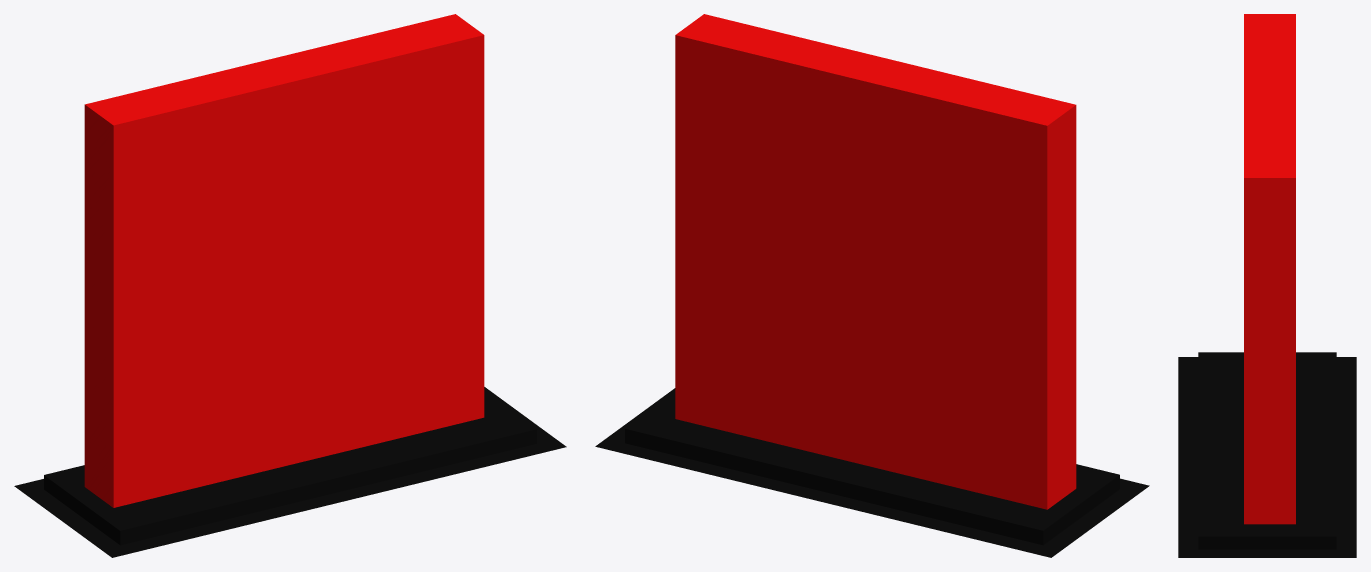
The model's file is Target.fbx.
3 views of the same model, side by side, from view 1: azimuth 30°, elevation 25°; view 2: azimuth 150°, elevation 25°; view 3: azimuth 270°, elevation 25° (orthographic). The views are drawn at different scales.
Parts seen in each view (by area): view 1: Target, Bottom; view 2: Target, Bottom; view 3: Bottom, Target.
Boxes of the visible parts, <box> form: Target: <box>84,14,484,507</box>; Bottom: <box>14,387,566,557</box>; Target: <box>675,14,1076,509</box>; Bottom: <box>595,388,1149,557</box>; Bottom: <box>1178,352,1356,557</box>; Target: <box>1244,14,1295,524</box>.
Bounding box in the file's own units: 4.42 × 3.69 × 1.66.
